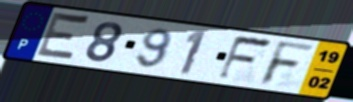1: (178, 29, 210, 77)
8: (85, 21, 125, 63)
9: (133, 27, 177, 70)
E: (33, 9, 94, 64)
F: (257, 39, 319, 88), (214, 34, 276, 82)
